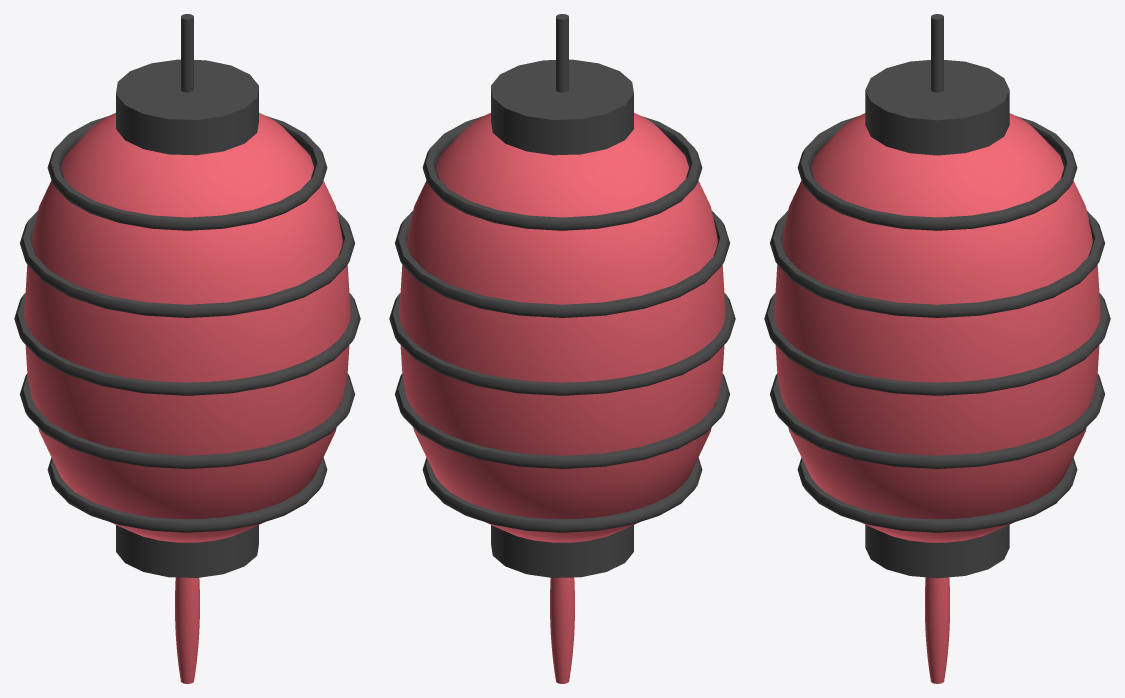
Rendered from Lantern.glb.
3 views of the same model, side by side, from view 1: azimuth 30°, elevation 25°; view 2: azimuth 150°, elevation 25°; view 3: azimuth 270°, elevation 25° (orthographic).
Visible parts, largest first — view 1: Lantern; view 2: Lantern; view 3: Lantern.
Part boxes in pixels (bbox=[...]): Lantern: bbox=[14, 14, 360, 683]; Lantern: bbox=[389, 14, 735, 683]; Lantern: bbox=[764, 14, 1110, 683].
Bounding box in the file's own units: 0.624 × 1.32 × 0.624.
